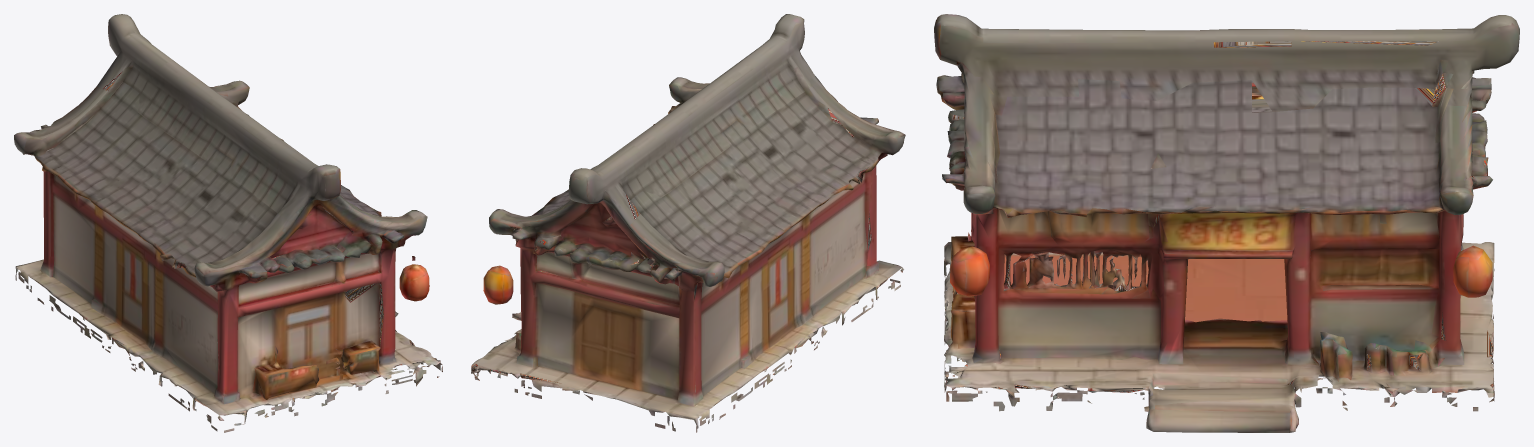
File: bq_teashop.lod.glb
3 renders of one model, left to right at view 1: azimuth 30°, elevation 25°; view 2: azimuth 150°, elevation 25°; view 3: azimuth 270°, elevation 25°, orthographic. The views are drawn at different scales.
Size of the model in its own units: 1.42 by 1.2 by 2.
Materials: 1 (1 with a texture image).
